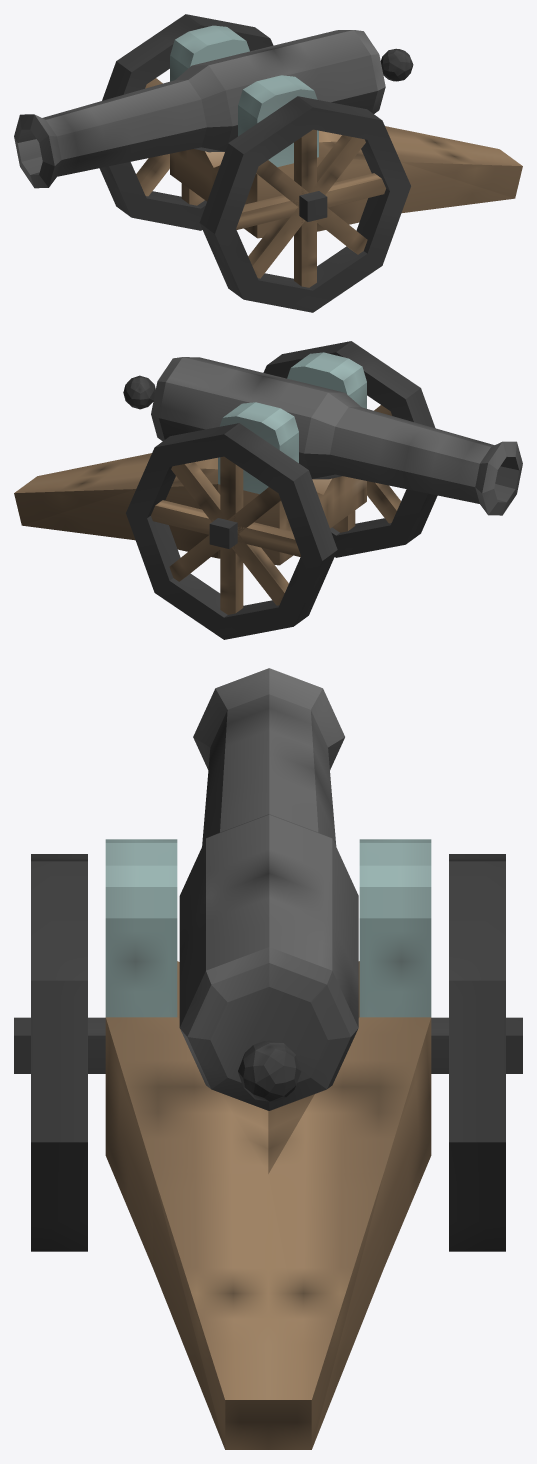
File: Xephao.fbx
3 renders of one model, top to bottom at view 1: azimuth 30°, elevation 25°; view 2: azimuth 150°, elevation 25°; view 3: azimuth 270°, elevation 25°, orthographic. The views are drawn at different scales.
Parts seen in each view (by area): view 1: Xephao; view 2: Xephao; view 3: Xephao.
Part boxes in pixels (left/top/right/bottom): Xephao: left=14, top=14, right=522, bottom=312; Xephao: left=14, top=341, right=522, bottom=639; Xephao: left=14, top=668, right=522, bottom=1449.
Size of the model in its own units: 332 by 139 by 163.
